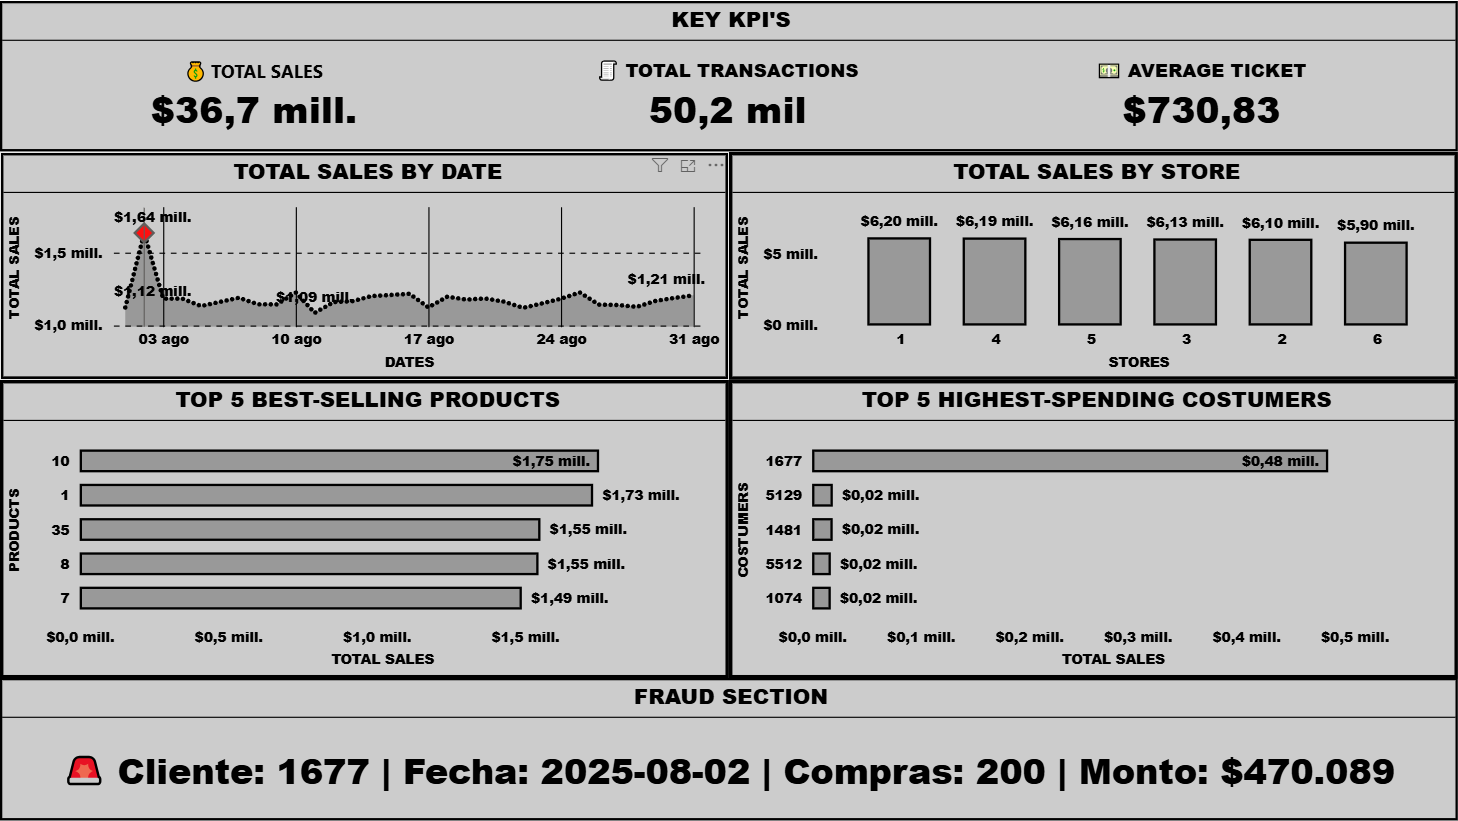

Layout of this report page (visuals, bound fields, positions):
{"tool":"powerbi","page":{"name":"Página 1","canvas":[1280,720],"ordinal":0},"visuals":[{"type":"cardVisual","title":"KEY KPI''S","fields":{"Data":["sales sales.Total Sales","CountNonNull(sales sales.sale_id)","sales sales.Avg Ticket"]},"box":[0,0,1280,132.3],"z":0},{"type":"lineChart","title":"TOTAL SALES BY DATE","fields":{"Y":["sales sales.Total Sales"],"Category":["sales sales.date"]},"box":[0,132.3,640,200.4],"z":1000},{"type":"clusteredColumnChart","title":"TOTAL SALES BY STORE","fields":{"Category":["sales sales.store_id"],"Y":["sales sales.Total Sales"]},"box":[640,132.3,640,200.4],"z":2000},{"type":"clusteredBarChart","title":"TOP 5 BEST-SELLING PRODUCTS","fields":{"Y":["sales sales.Total Sales"],"Category":["sales sales.product_id"]},"box":[0,332.6,640,261.6],"z":3000},{"type":"clusteredBarChart","title":"TOP 5 HIGHEST-SPENDING COSTUMERS","fields":{"Y":["sales sales.Total Sales"],"Category":["sales sales.customer_id"]},"box":[640,332.6,640,261.6],"z":4000},{"type":"cardVisual","title":"FRAUD SECTION","fields":{"Data":["sales sales.Fraud Alert"]},"box":[0,594.3,1280,125.5],"z":5000}]}

Visuals, with their boxes in screenshot pixels (x1, y1, x2, y2), scaled from the page's 1280x720 canvas onto the 1458x821 screenshot:
"KEY KPI''S" cardVisual: x1=0, y1=0, x2=1457, y2=151
"TOTAL SALES BY DATE" lineChart: x1=0, y1=151, x2=729, y2=379
"TOTAL SALES BY STORE" clusteredColumnChart: x1=729, y1=151, x2=1457, y2=379
"TOP 5 BEST-SELLING PRODUCTS" clusteredBarChart: x1=0, y1=379, x2=729, y2=678
"TOP 5 HIGHEST-SPENDING COSTUMERS" clusteredBarChart: x1=729, y1=379, x2=1457, y2=678
"FRAUD SECTION" cardVisual: x1=0, y1=678, x2=1457, y2=820
